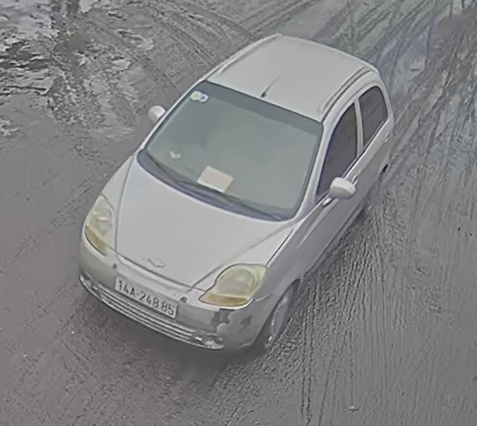vehicle plate: (112, 272, 176, 320)
